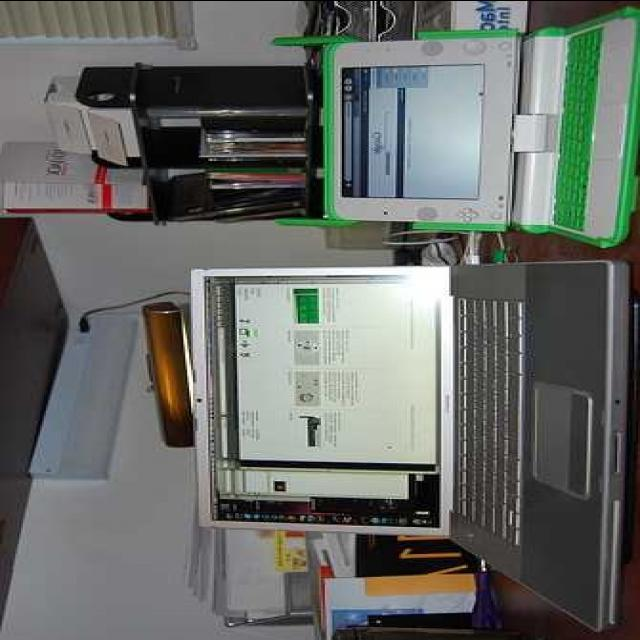laptop: (192, 260, 636, 628), (331, 26, 633, 248)
